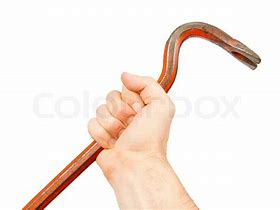crowbar: (17, 20, 263, 210)
